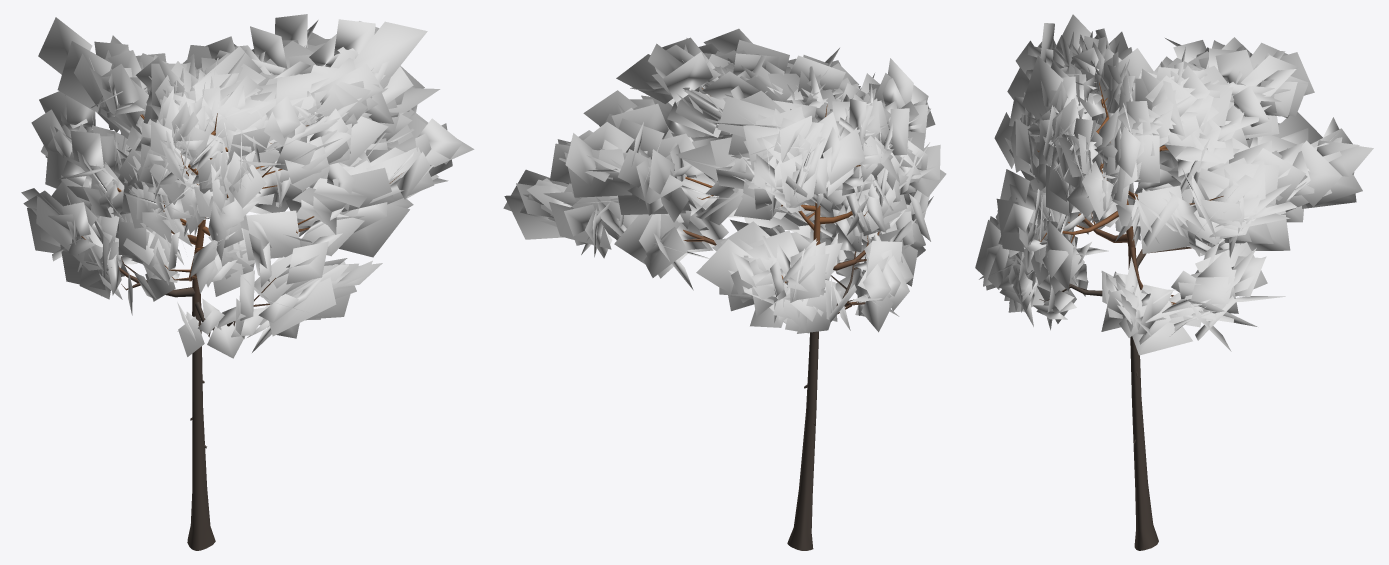
The picture shows the model from 3 angles, left to right: view 1: azimuth 30°, elevation 25°; view 2: azimuth 150°, elevation 25°; view 3: azimuth 270°, elevation 25°; orthographic projection. The views are drawn at different scales.
Parts seen in each view (by area): view 1: crown, trunk; view 2: crown, trunk; view 3: crown, trunk.
Boxes of the visible parts, left/top/right/bottom form: crown: left=21, top=14, right=474, bottom=358; trunk: left=81, top=113, right=401, bottom=550; crown: left=503, top=28, right=946, bottom=333; trunk: left=683, top=88, right=879, bottom=550; crown: left=975, top=14, right=1373, bottom=355; trunk: left=1037, top=82, right=1223, bottom=550.
Bounding box in the file's own units: 16.27 × 19.2 × 13.49.
